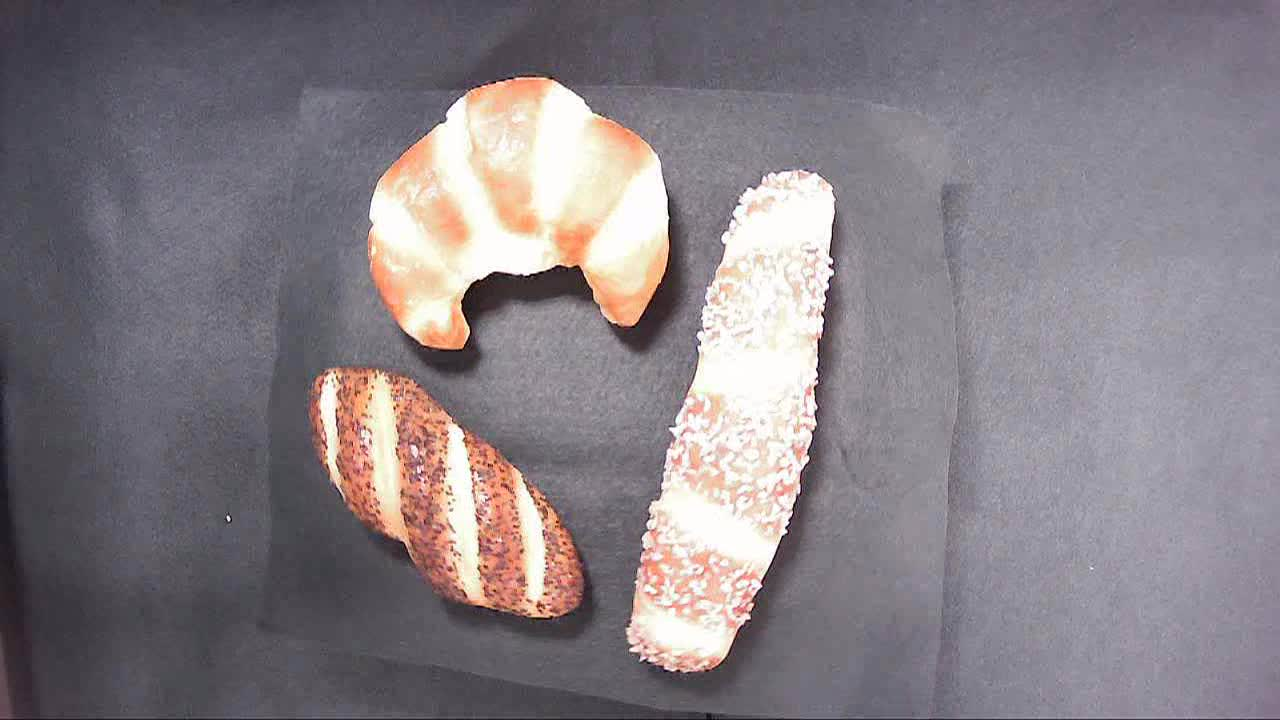cow: (353, 66, 681, 356)
long: (692, 159, 855, 653), (678, 153, 827, 686), (622, 363, 795, 684)
slash: (301, 358, 587, 629)
